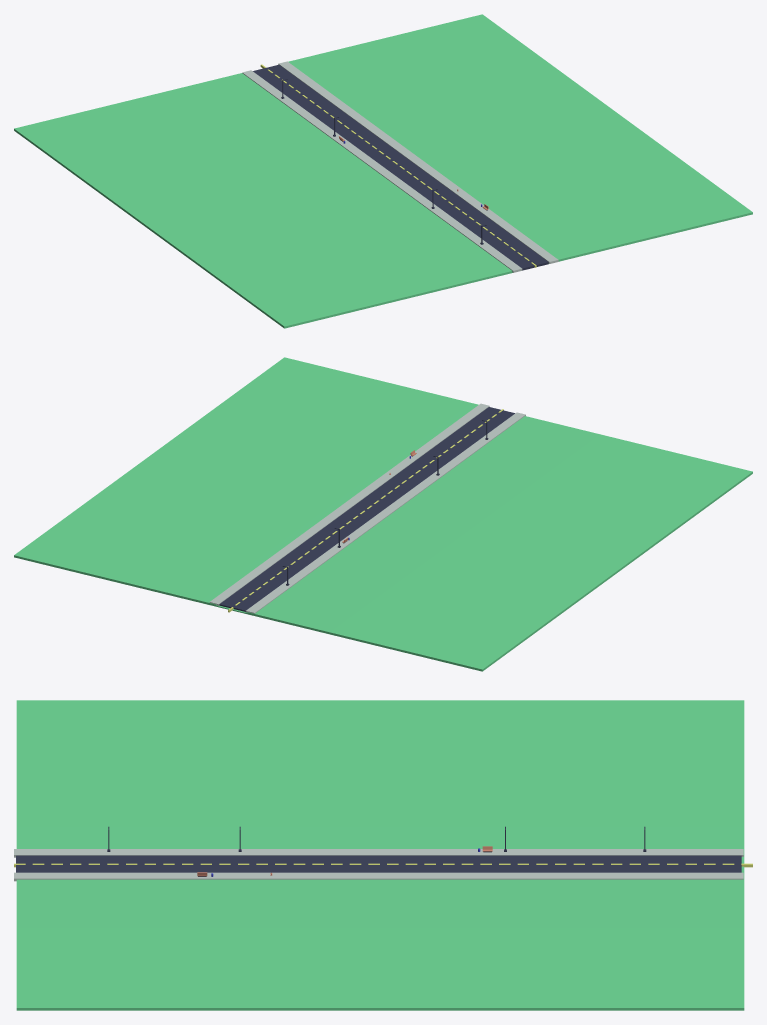
The model's file is GroundPlane.fbx.
3 renders of one model, top to bottom at view 1: azimuth 30°, elevation 25°; view 2: azimuth 150°, elevation 25°; view 3: azimuth 270°, elevation 25°, orthographic. The views are drawn at different scales.
Visible parts, largest first — view 1: Ground, Street, pCube2, pCube3; view 2: Ground, Street, pCube2, pCube3; view 3: Ground, Street, pCube3, pCube2.
Part boxes in pixels (x1=…): Ground: x1=14, y1=14, x2=752, y2=328; Street: x1=253, y1=65, x2=548, y2=270; pCube2: x1=242, y1=70, x2=522, y2=272; pCube3: x1=278, y1=61, x2=558, y2=263; Ground: x1=14, y1=357, x2=752, y2=671; Street: x1=219, y1=407, x2=514, y2=611; pCube2: x1=245, y1=412, x2=525, y2=613; pCube3: x1=209, y1=403, x2=489, y2=605; Ground: x1=16, y1=700, x2=744, y2=1010; Street: x1=16, y1=855, x2=741, y2=872; pCube3: x1=14, y1=872, x2=743, y2=881; pCube2: x1=14, y1=849, x2=743, y2=857.
Size of the model in its own units: 234 by 10.09 by 238.
